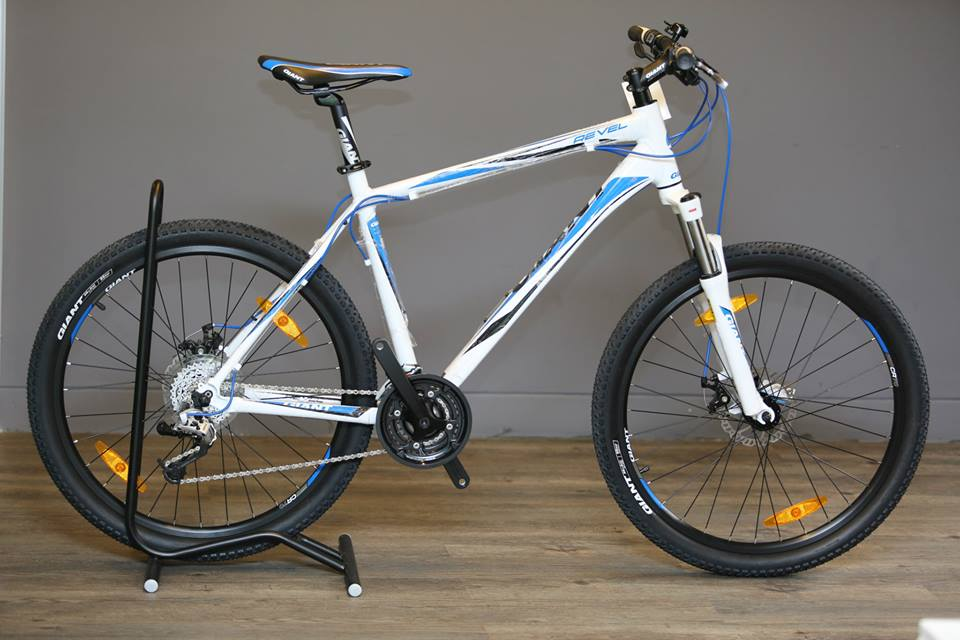bicycle: (11, 21, 932, 599)
